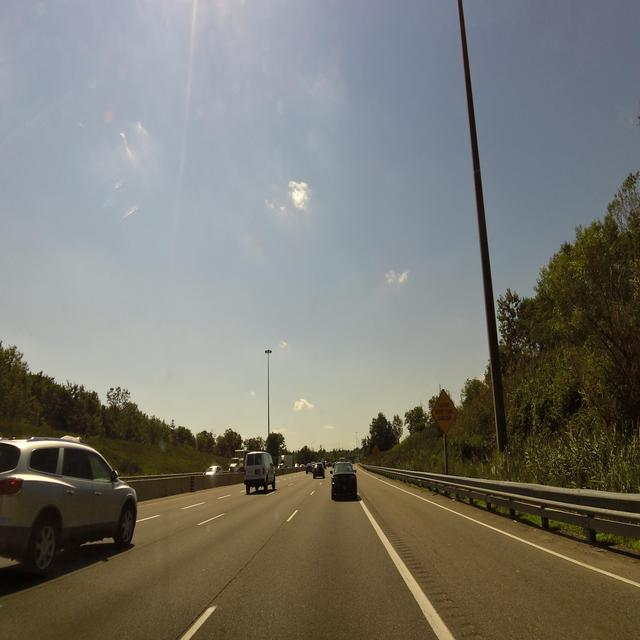Barrier: (119, 470, 243, 501), (275, 466, 295, 476)
Car: (0, 435, 136, 576), (203, 450, 324, 493), (330, 462, 357, 499)
Vegetation: (322, 448, 329, 461)
